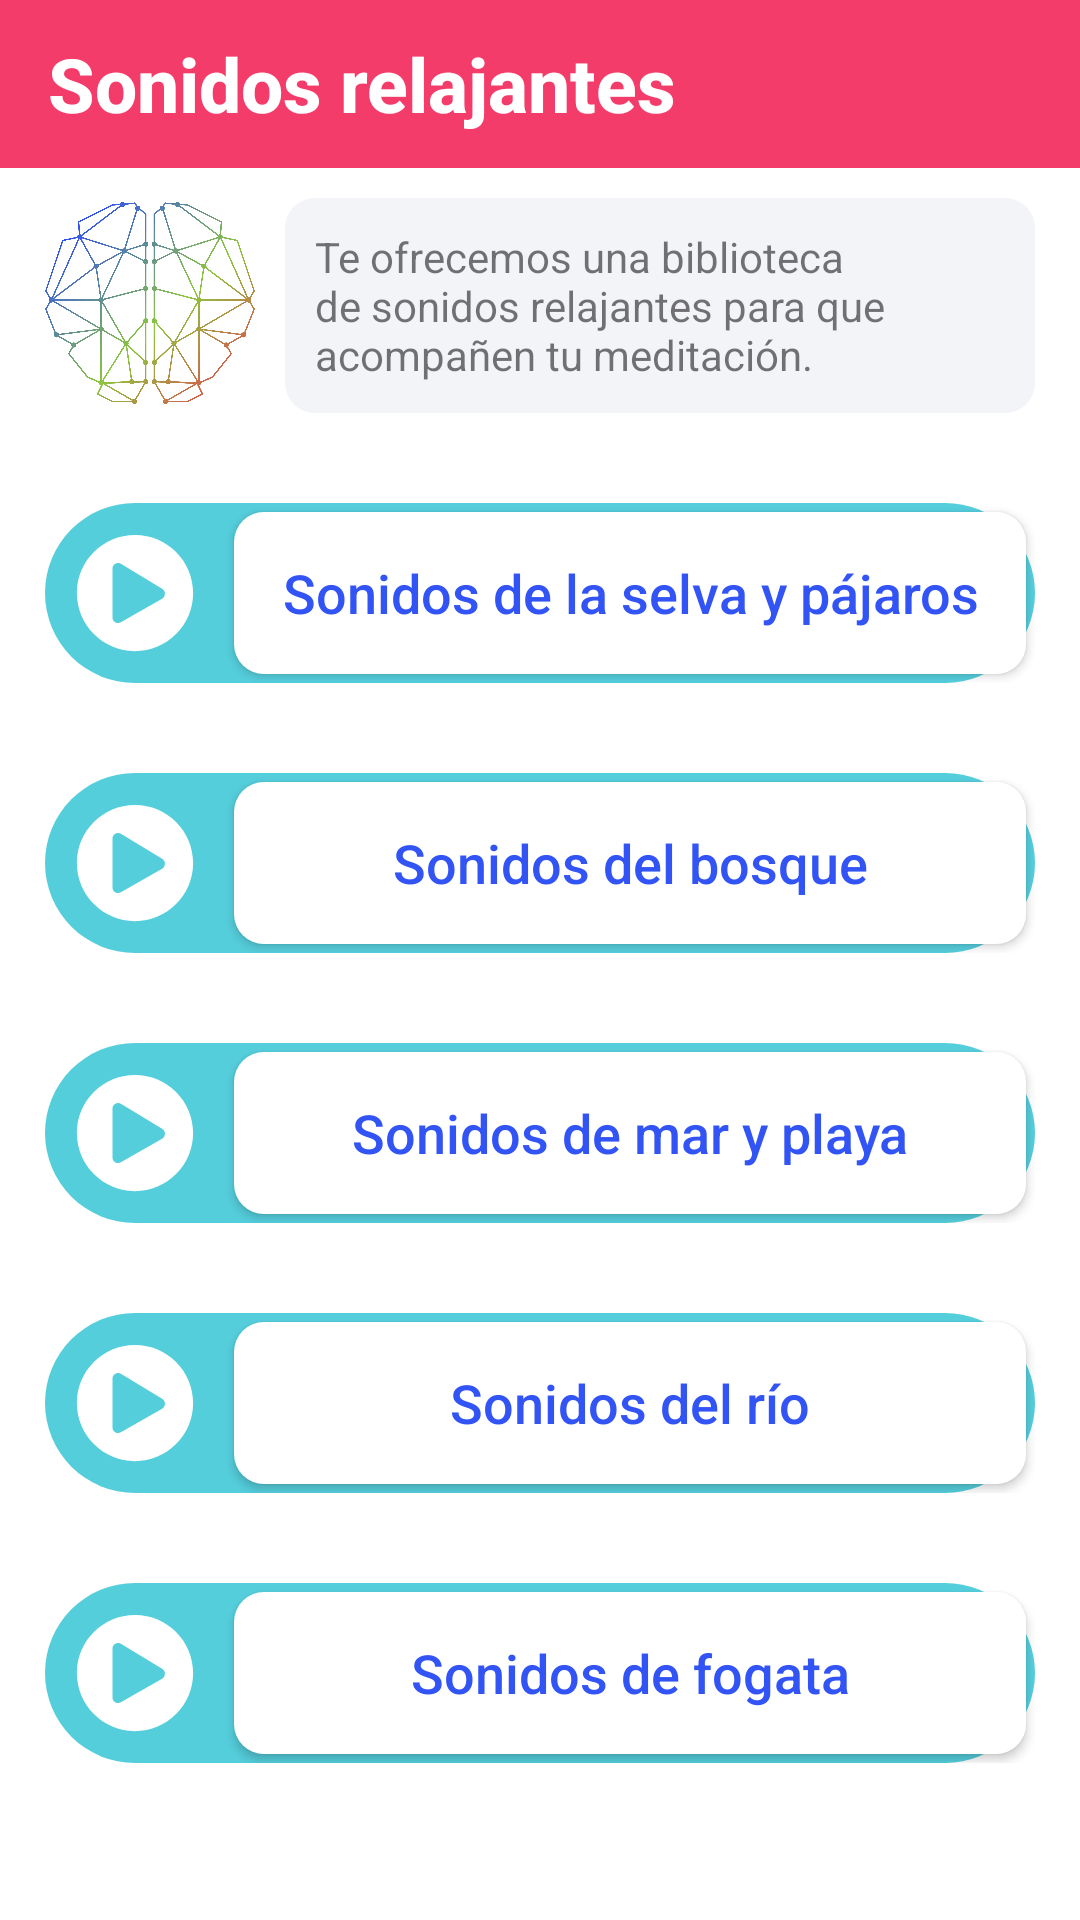

Icons on this 1080px x 1920px Android screen, each with the point to tap as (x,y):
play circle: (135,593), (135,863), (135,1133), (135,1403), (135,1673)
